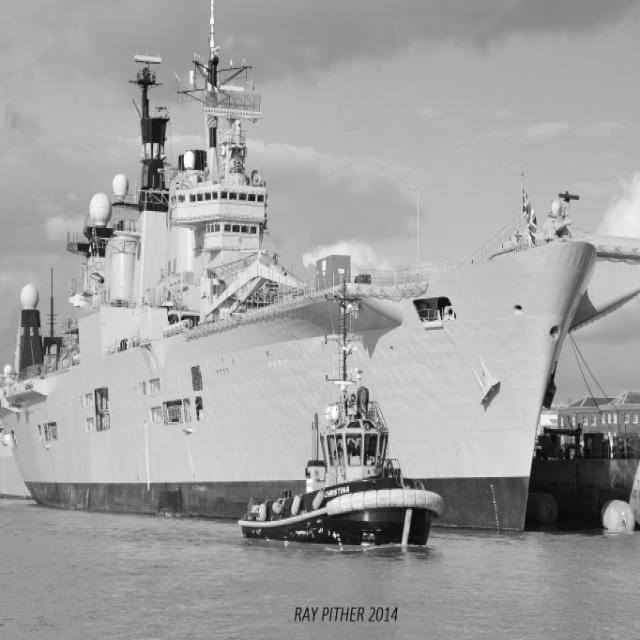Portanaves: (1, 1, 640, 542)
